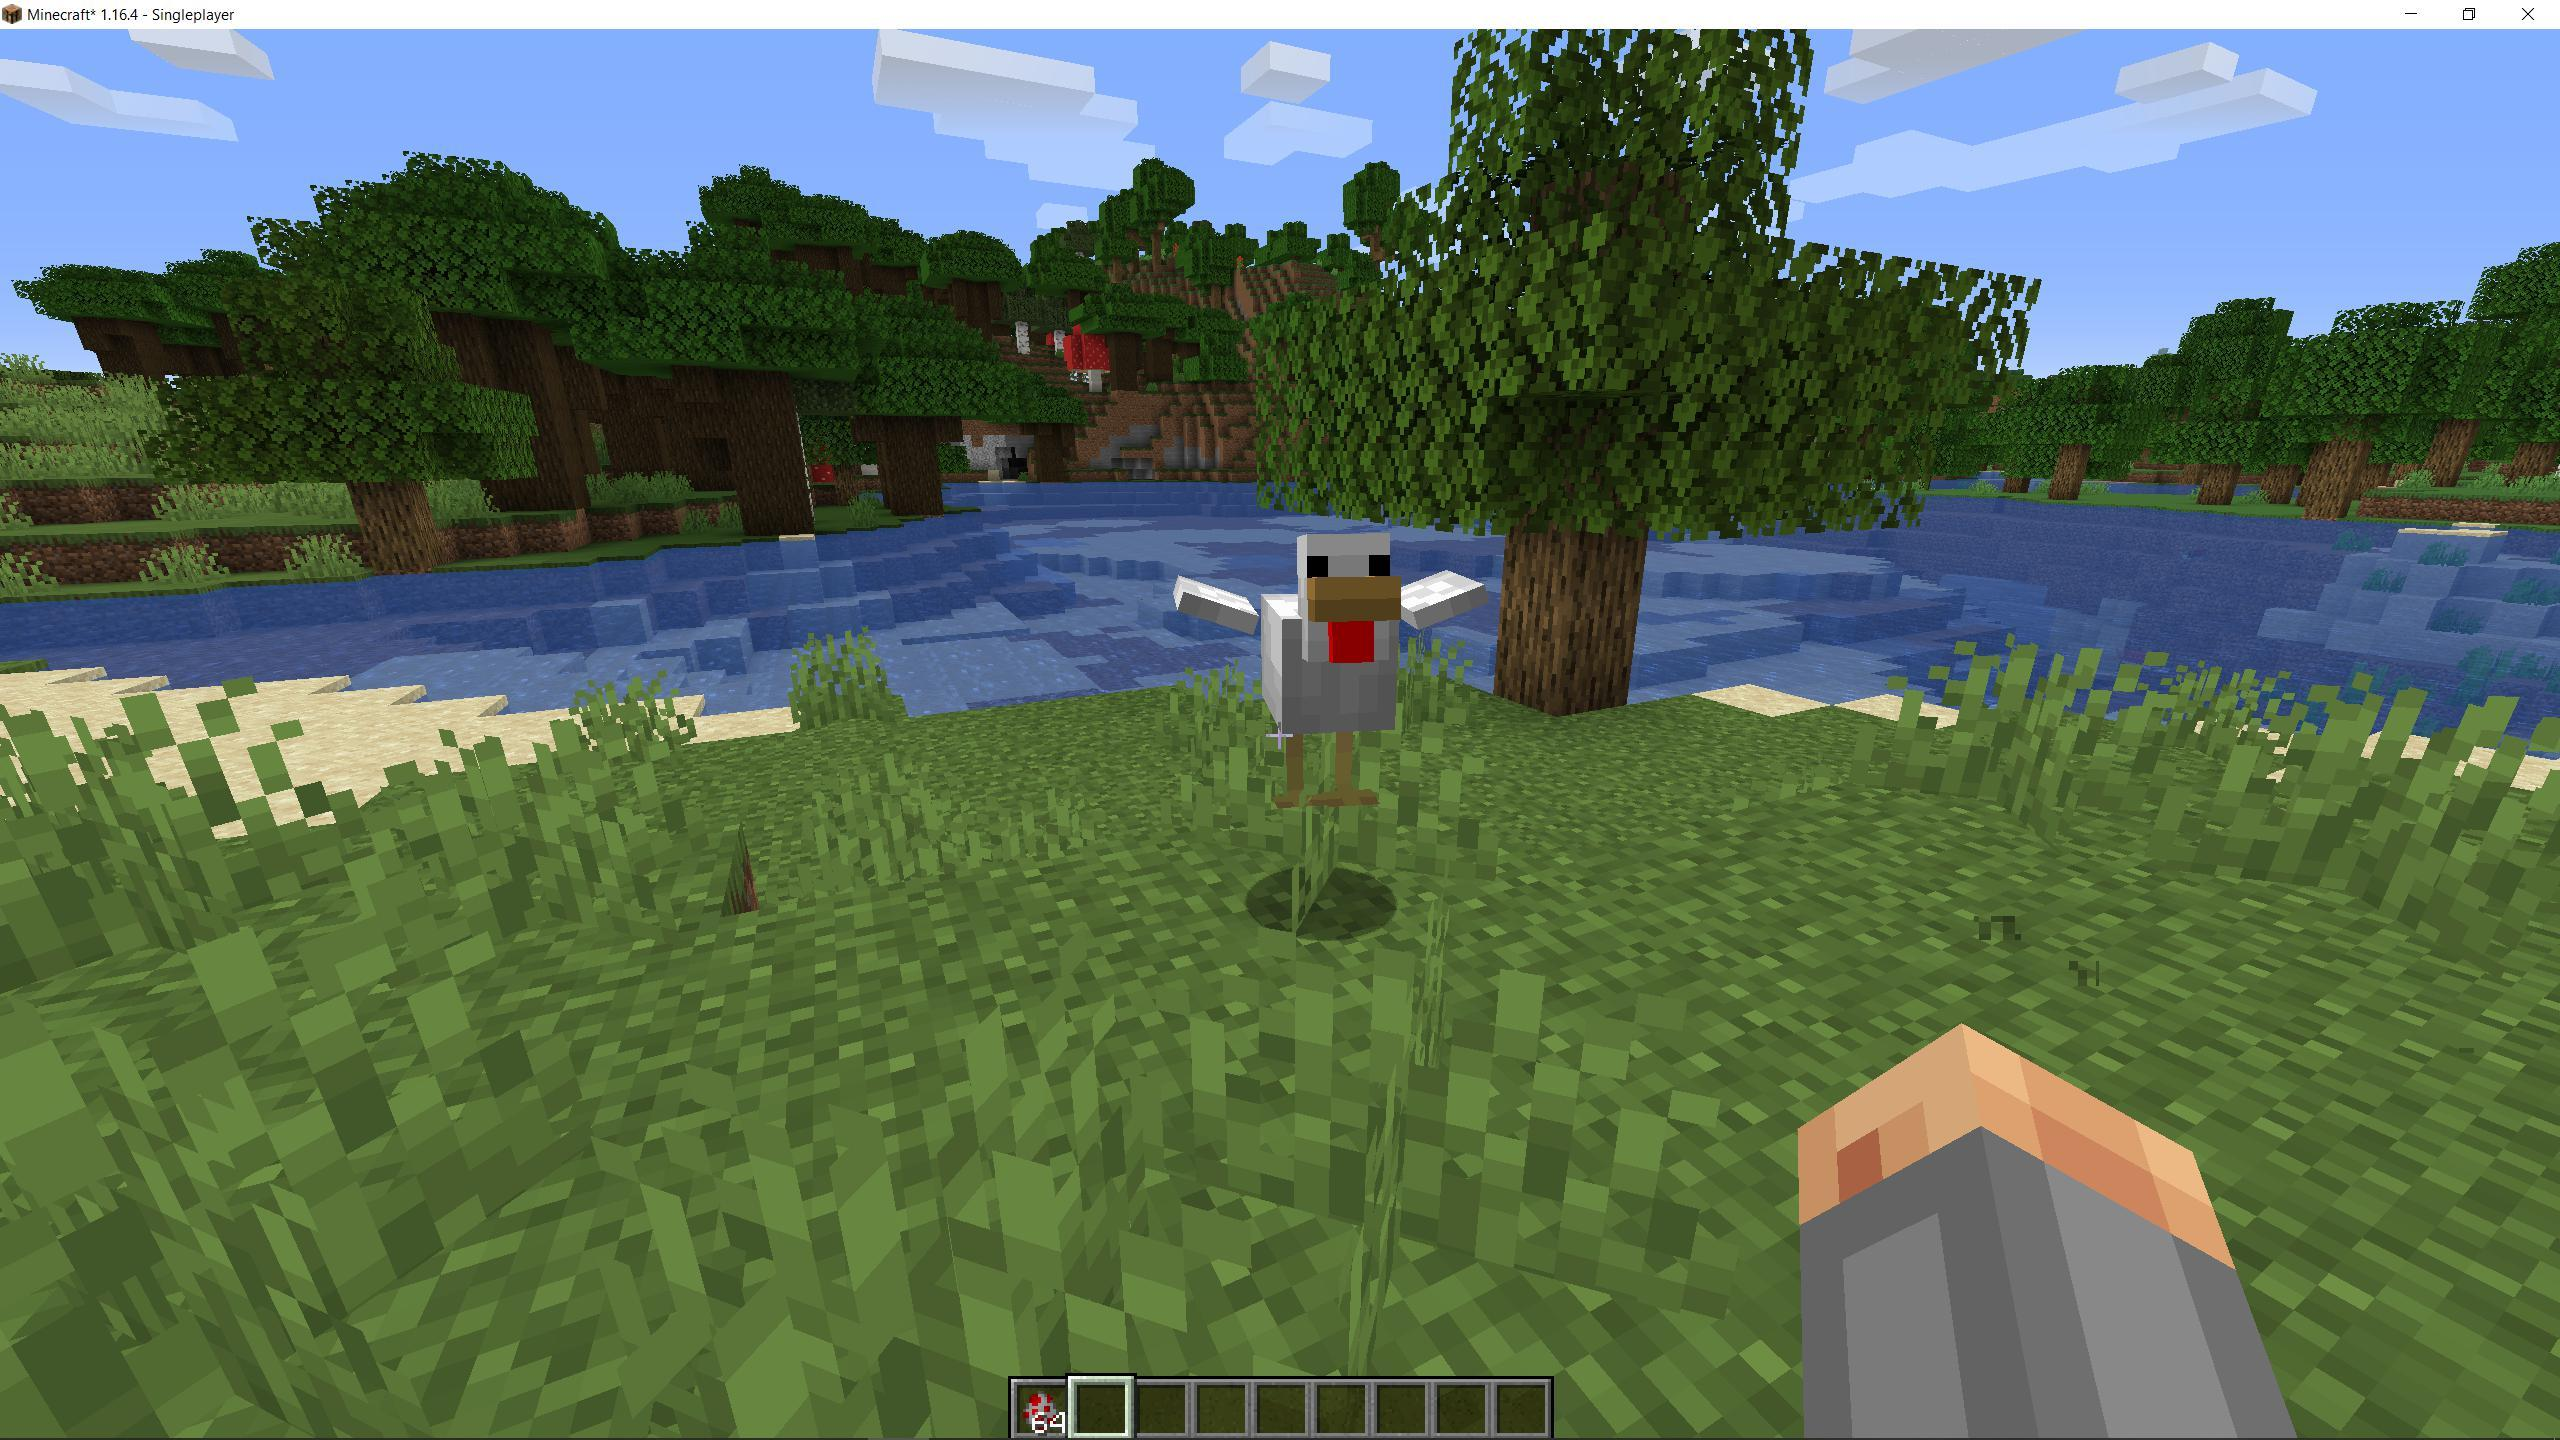chicken: (1159, 522, 1479, 812)
